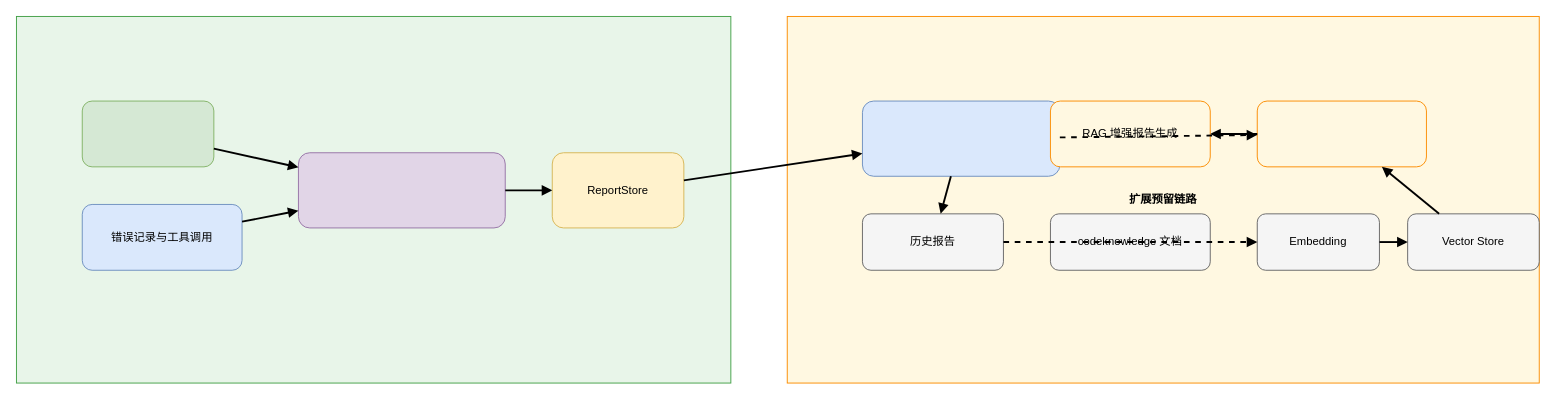
Image size: 1556x400. Some labels were removed from this diagram. The centre of each missing label's shape, as x and y in pixels:
Benchmark 结果: the point at 147,133
generate_report Tool / LLM 报告节点: the point at 401,190
ReportsPage AI 结论 + 原始证据: the point at 961,138
相似报告 / 知识片段检索: the point at 1341,133
